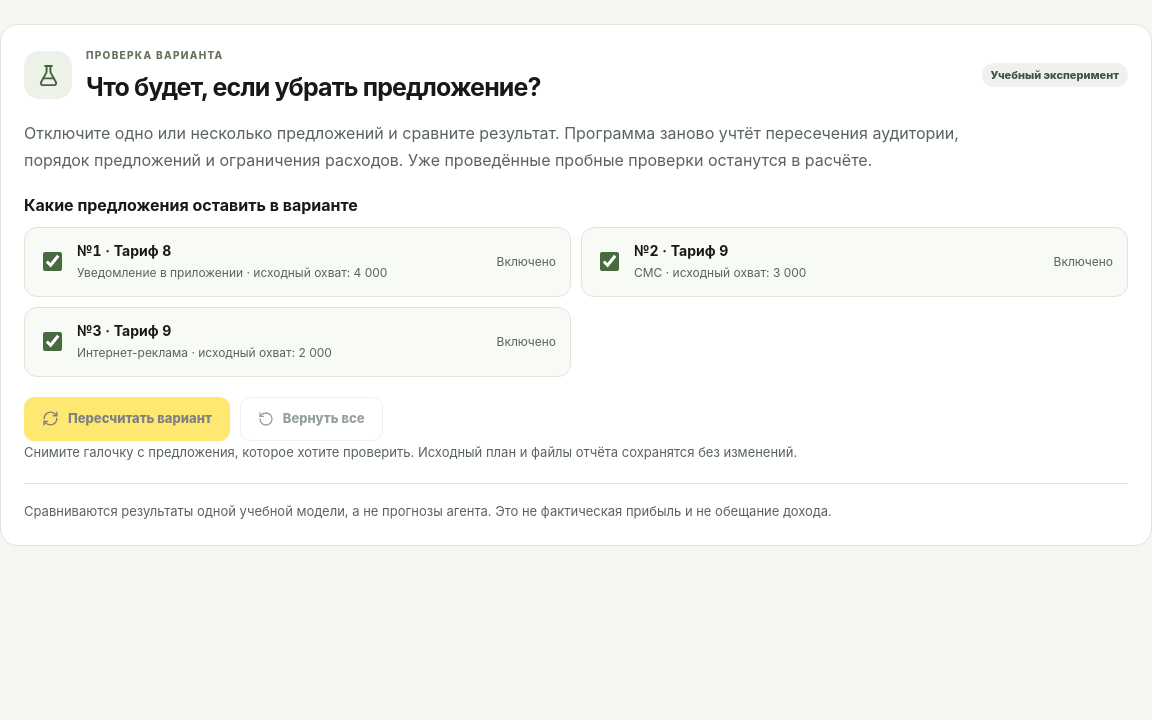
Test: sends exact excluded IDs and removes a stale result when selection changes
expect the button "Пересчитать вариант" is disabled: met, box x1=24 y1=397 x2=230 y2=441
Click the 1st checkbox: (52, 262) x1=43 y1=252 x2=62 y2=271
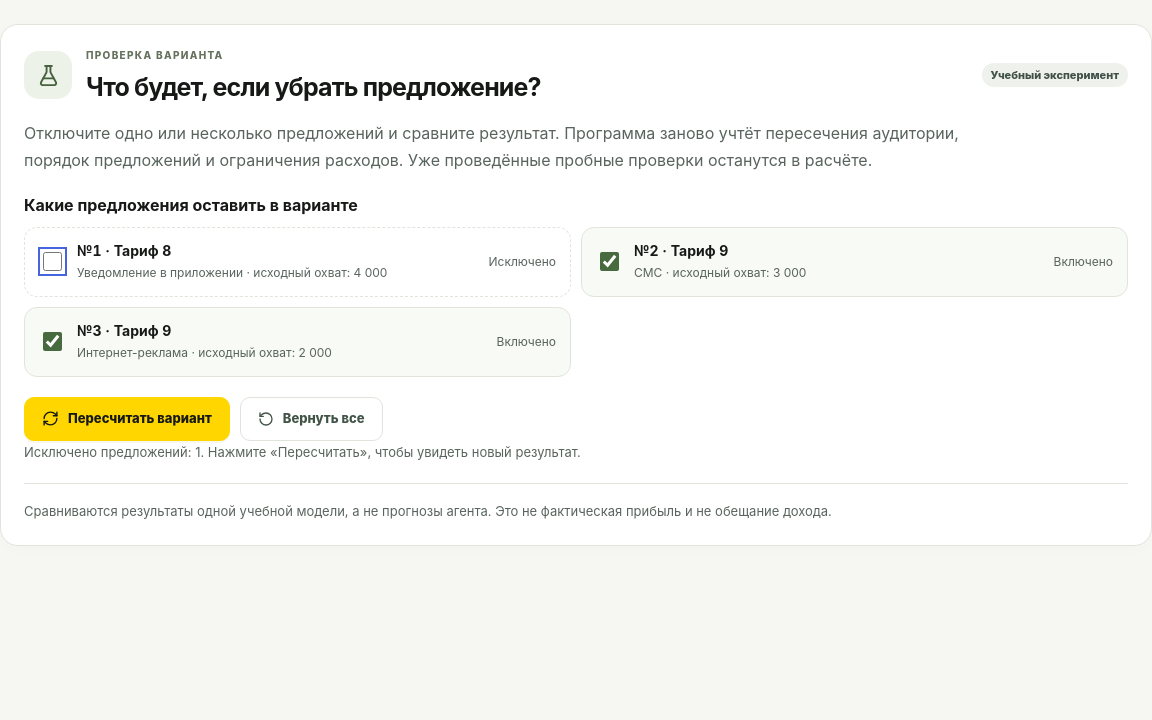
Click the button "Пересчитать вариант": (127, 419) x1=24 y1=397 x2=230 y2=441
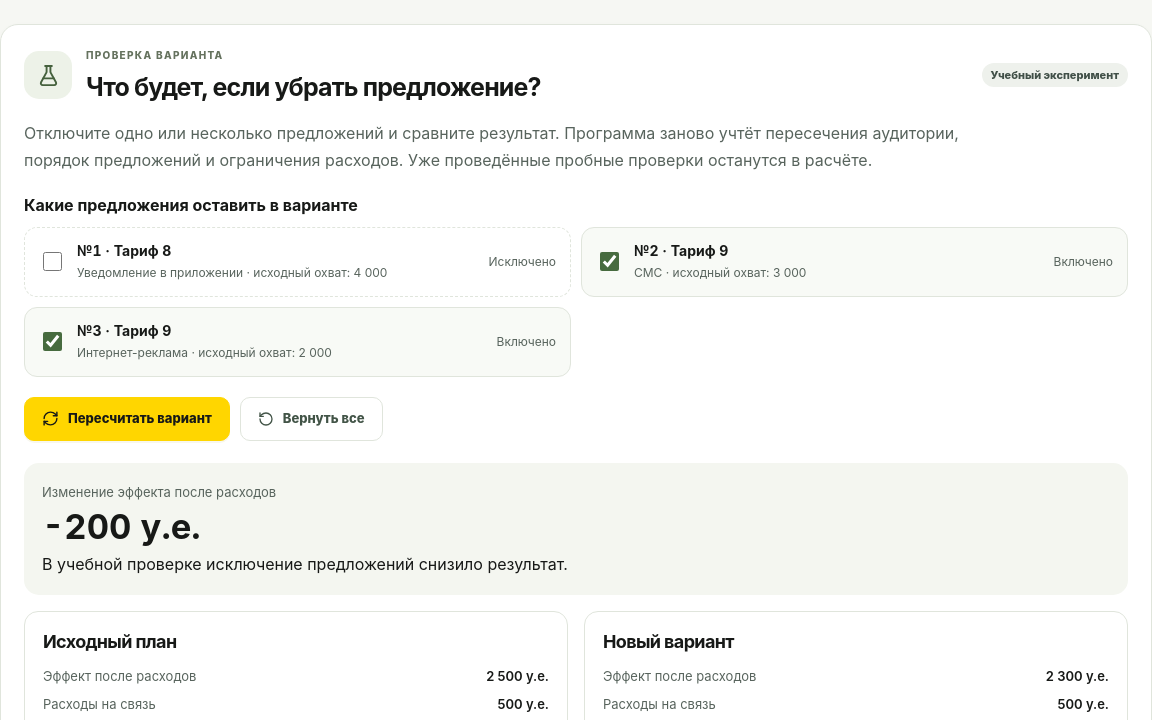
expect the text "Изменение эффекта после расходов" is shown: met, box x1=42 y1=484 x2=276 y2=500
expect the text "В учебной проверке исключение предложений снизило результат." is shown: met, box x1=42 y1=554 x2=568 y2=574
Click the checkbox labelled "№2 · Тариф 9 СМС · исходный охват: 3 000 Включено": (610, 262) x1=600 y1=252 x2=619 y2=271
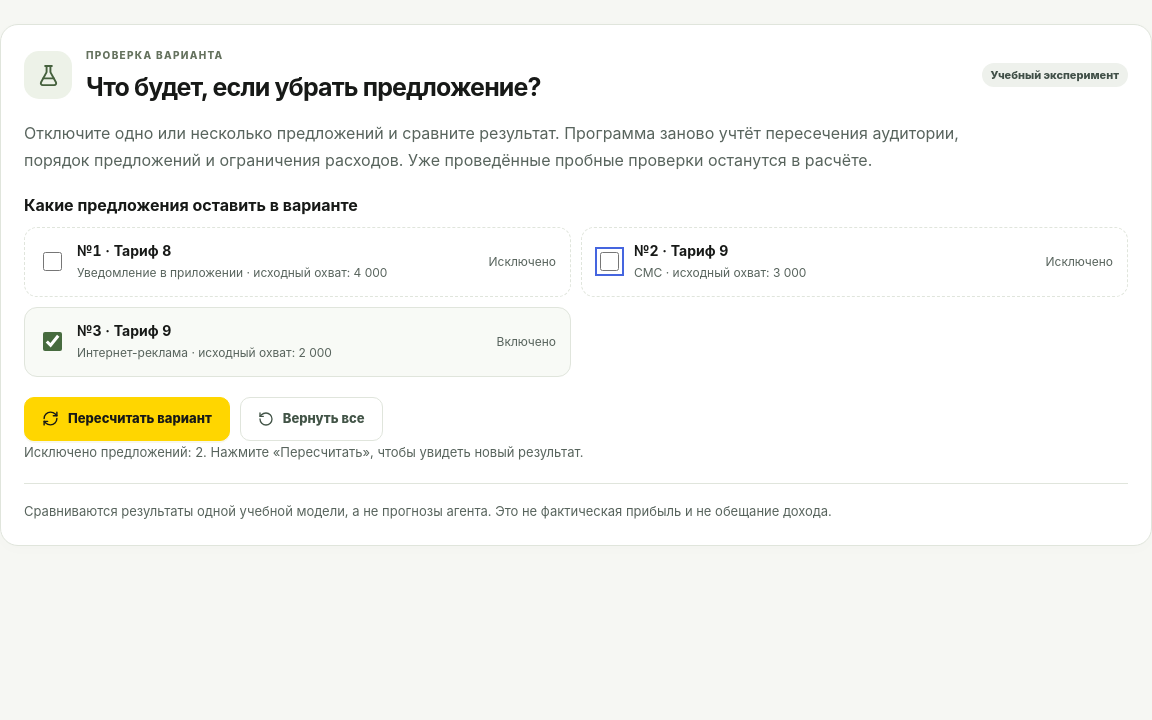
expect the text "Изменение эффекта после расходов" is gone: met
Click the button "Вернуть все": (311, 419) x1=240 y1=397 x2=382 y2=441
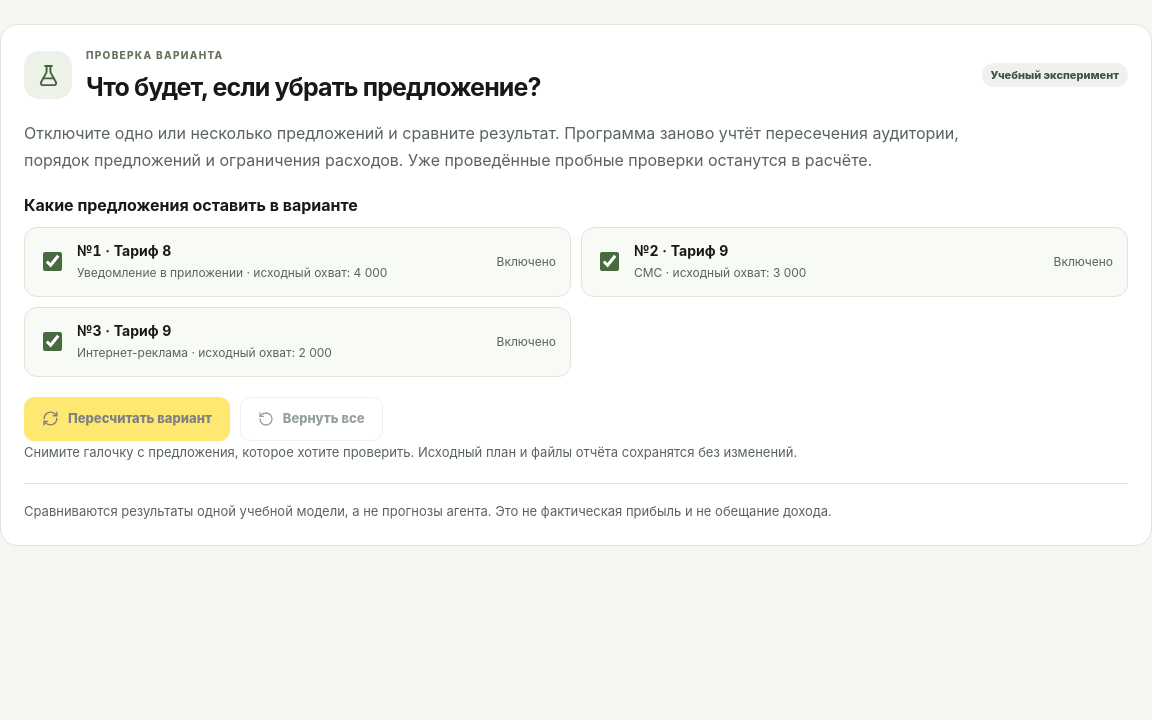
expect the 1st checkbox is checked: met, box x1=43 y1=252 x2=62 y2=271
expect the checkbox labelled "№2 · Тариф 9 СМС · исходный охват: 3 000 Включено" is checked: met, box x1=600 y1=252 x2=619 y2=271
expect the button "Пересчитать вариант" is disabled: met, box x1=24 y1=397 x2=230 y2=441
